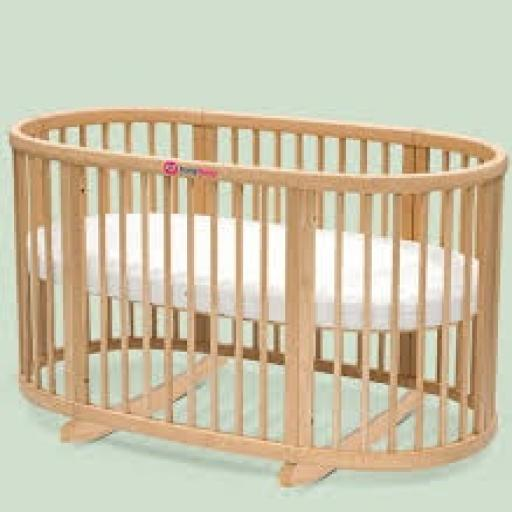crib: (12, 110, 507, 485)
